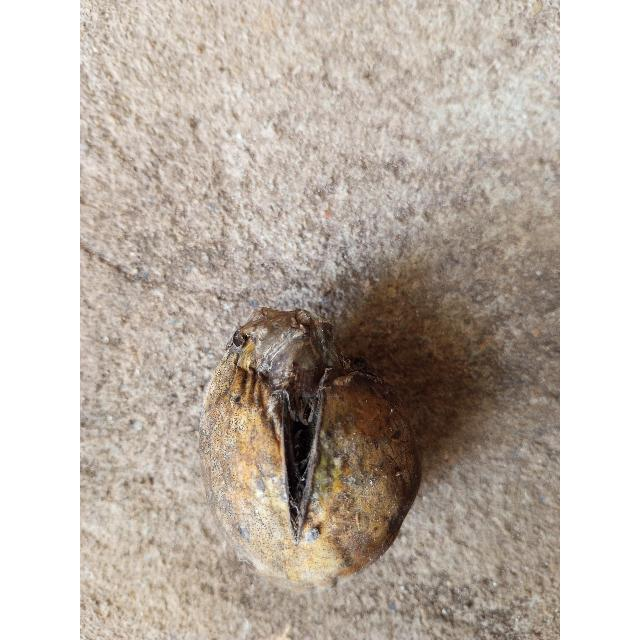damaged: (199, 305, 451, 593)
